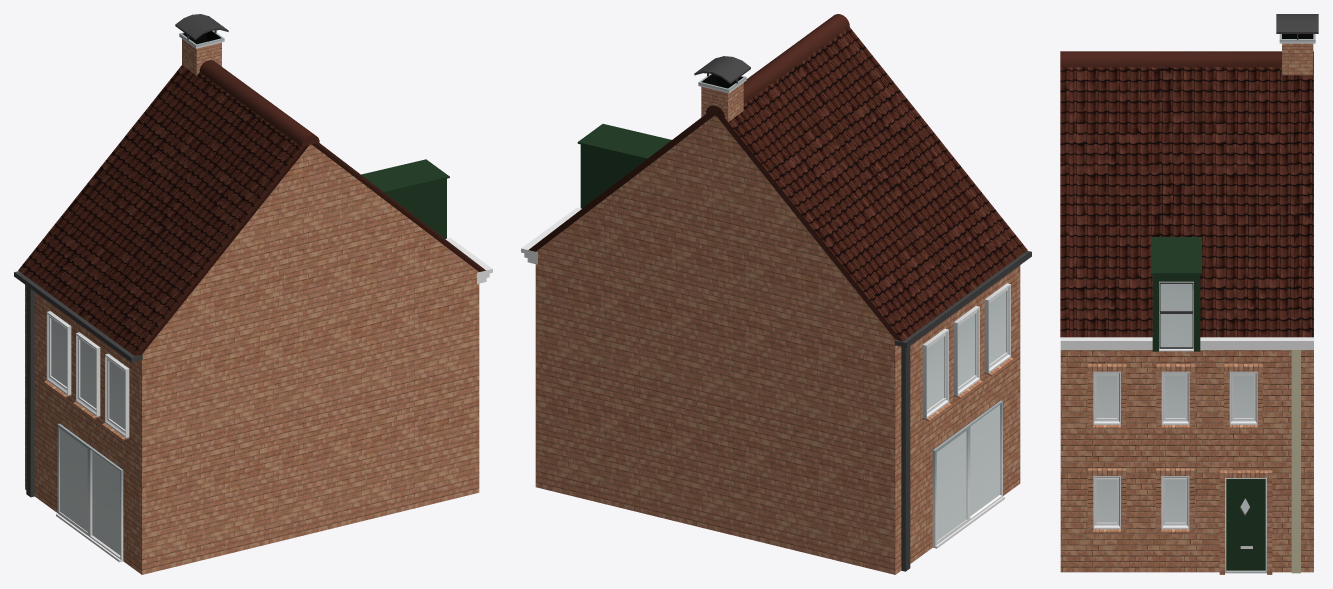
Rendered from It_Bynt_12.fbx.
The picture shows the model from 3 angles, left to right: view 1: azimuth 30°, elevation 25°; view 2: azimuth 150°, elevation 25°; view 3: azimuth 270°, elevation 25°; orthographic projection. The views are drawn at different scales.
Visible parts, largest first — view 1: It_Bynt_12; view 2: It_Bynt_12; view 3: It_Bynt_12.
Boxes of the visible parts, x1=… form: It_Bynt_12: x1=14, y1=14, x2=492, y2=574; It_Bynt_12: x1=521, y1=14, x2=1031, y2=574; It_Bynt_12: x1=1060, y1=14, x2=1318, y2=574.
Bounding box in the file's own units: 1016 × 1159 × 581.
